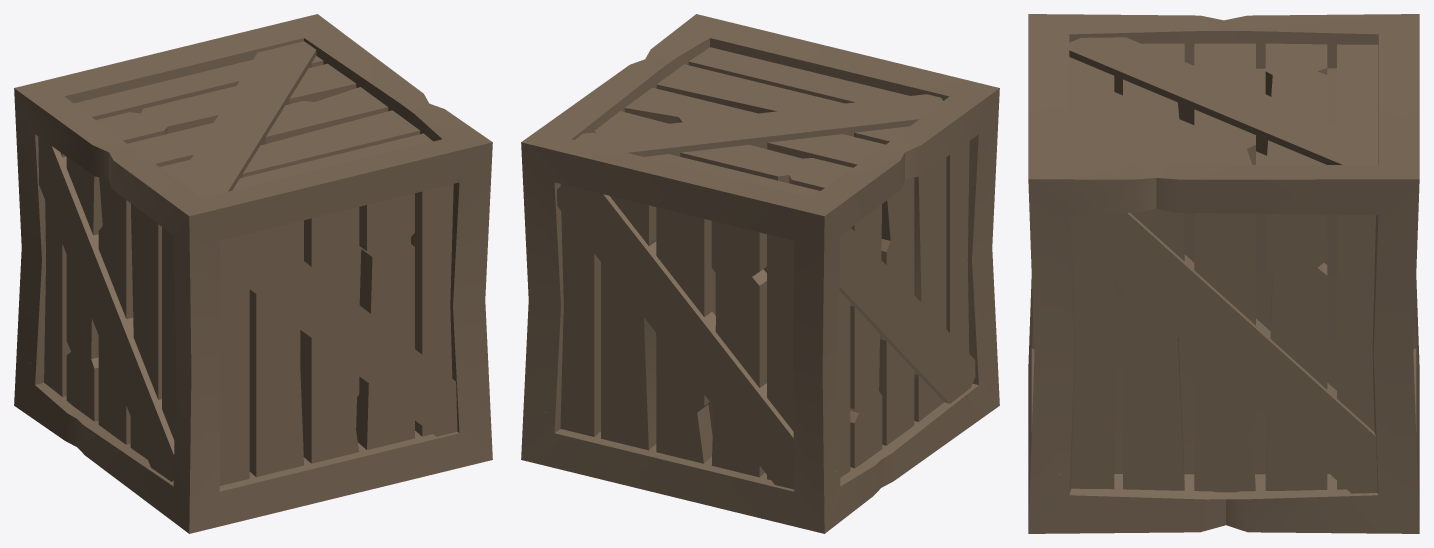
The model's file is box_wood02.fbx.
3 views of the same model, side by side, from view 1: azimuth 30°, elevation 25°; view 2: azimuth 150°, elevation 25°; view 3: azimuth 270°, elevation 25° (orthographic). The views are drawn at different scales.
Visible parts, largest first — view 1: box_wood02; view 2: box_wood02; view 3: box_wood02.
Boxes of the visible parts, box(x1,y1,x2,y2) form: box_wood02: box(14, 14, 492, 533); box_wood02: box(521, 14, 999, 533); box_wood02: box(1028, 14, 1419, 533).
Bounding box in the file's own units: 1.58 × 1.58 × 1.58.
